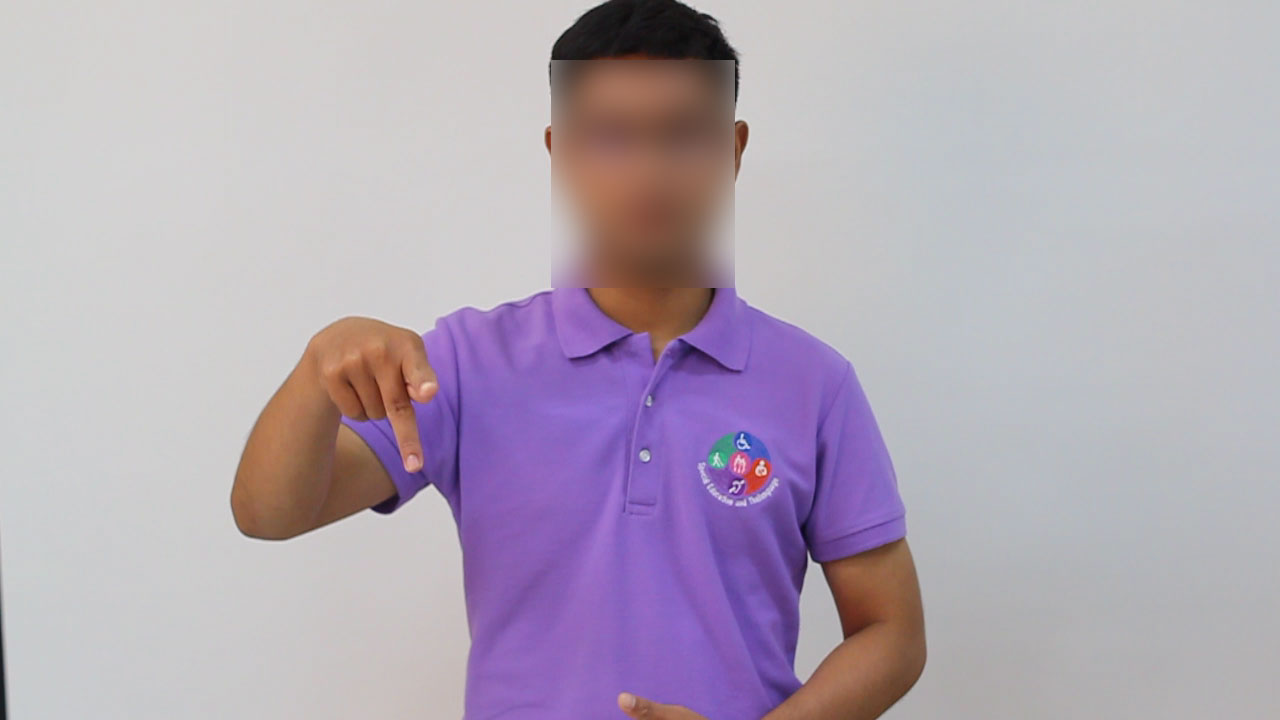por: (298, 295, 450, 486)
